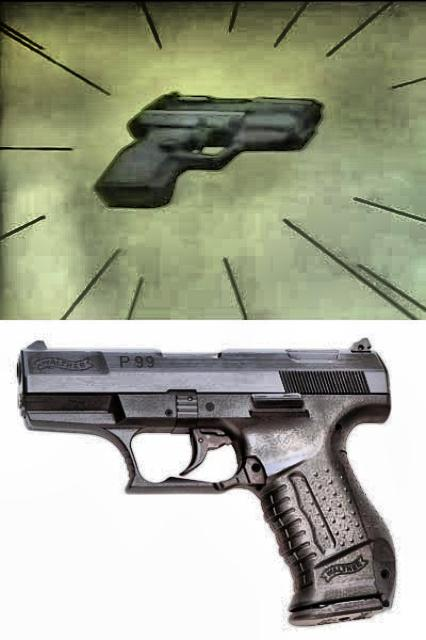pistol: (15, 340, 397, 628), (94, 89, 323, 210)
